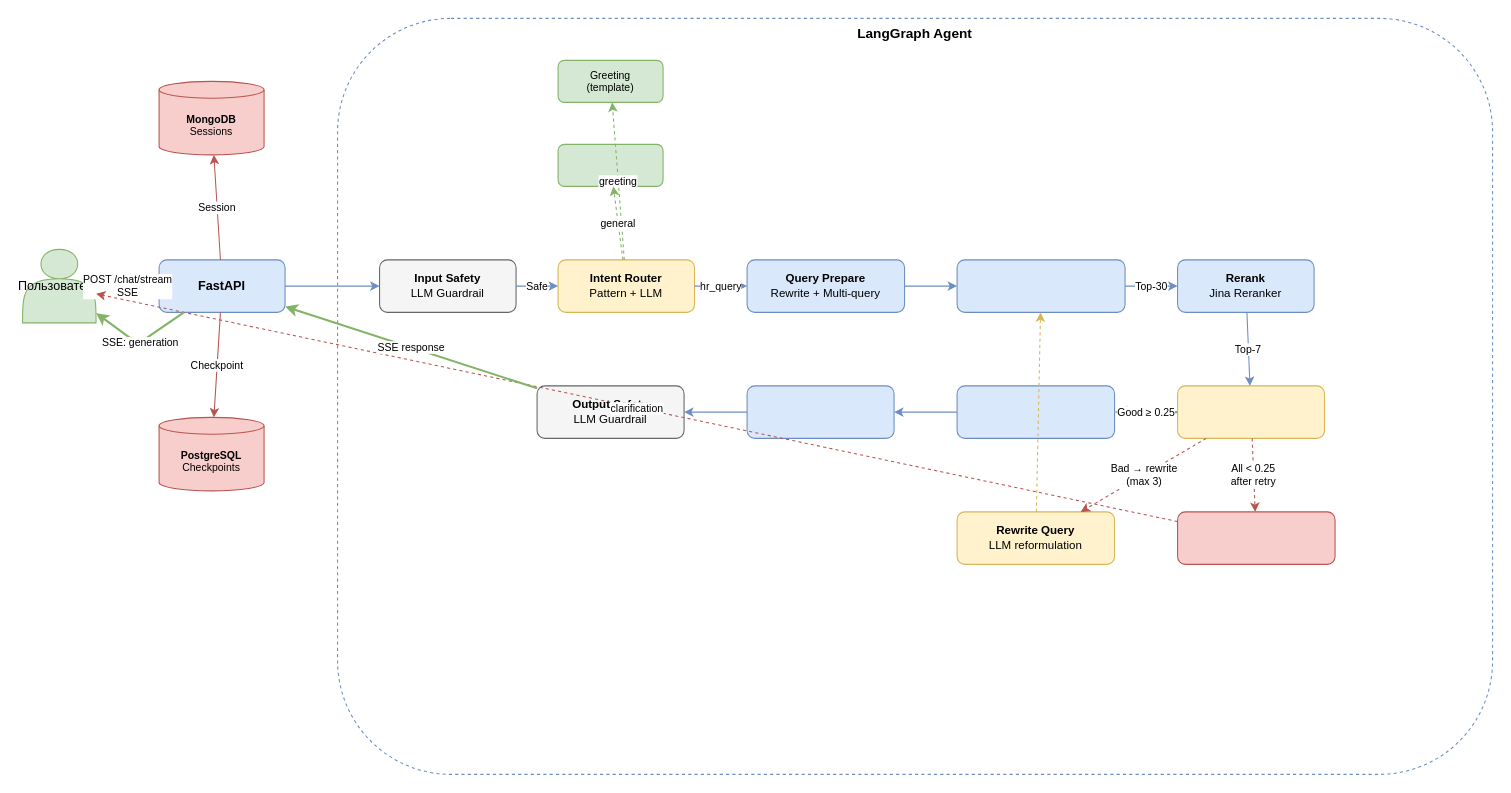
Some shapes in this 1511 by 793 pixel diagram are drawn without their labels. Here are the shapes that lost their labels. From the top down, the centre of each, then its label:
At point 610,164: "General (direct LLM)".
At point 1040,285: "Retrieve Qdrant Hybrid (RRF)".
At point 820,411: "Generate LLM Response".
At point 1035,411: "Expand Context Parent + neighbor".
At point 1251,411: "Grade Documents Score threshold".
At point 1256,537: "Human Feedback interrupt() — HITL".
